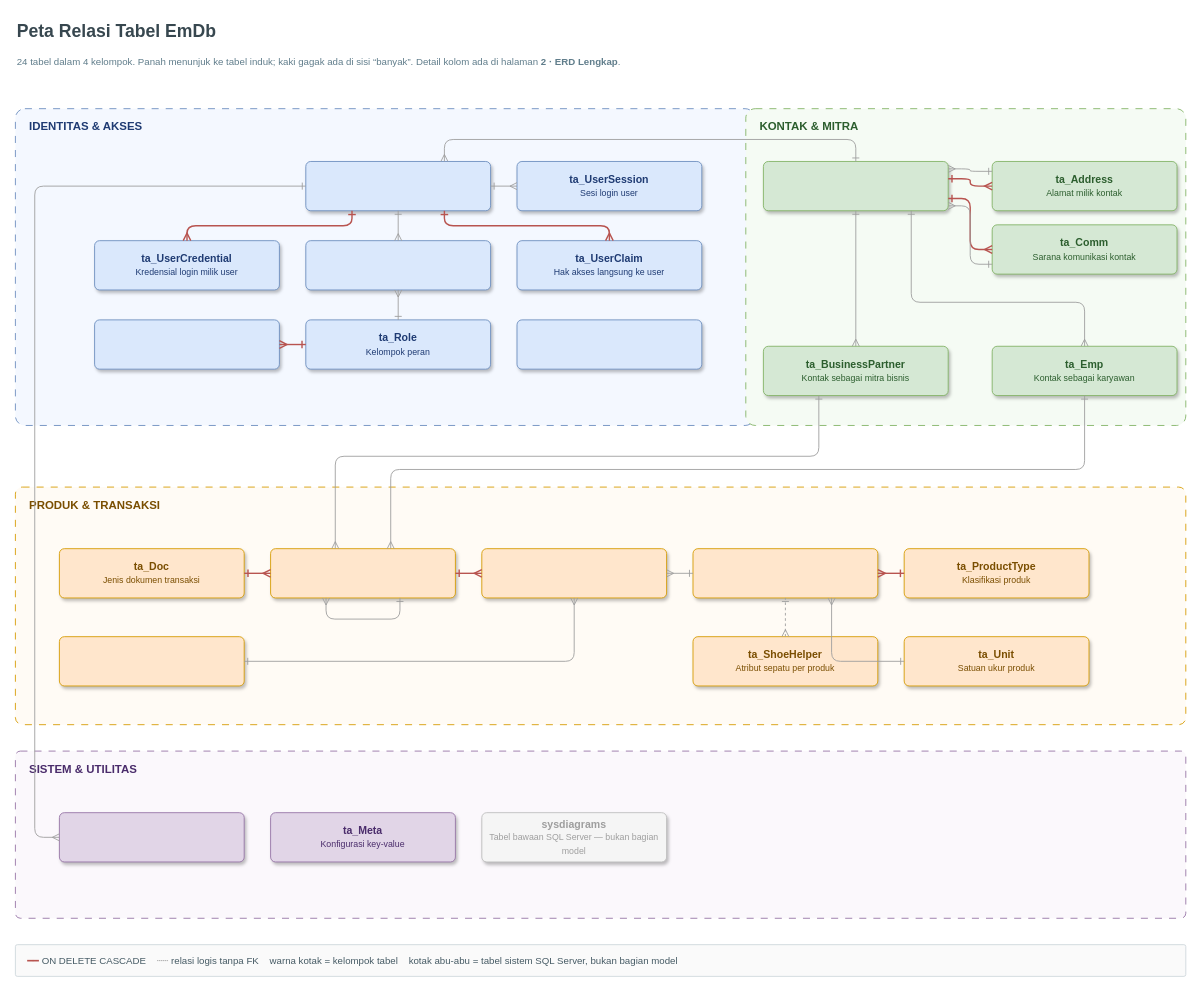
The diagram is 1201 pixels wide and 992 high, and some of its shapes have lost their labels. The shapes that lost their labels are listed below. From the top down, each one's centre as x and y in pixels, then its label:
At (398,187): "ta_User Akun pengguna aplikasi".
At (856,187): "ta_Contact Identitas orang / organisasi".
At (398,266): "ta_UserRole Penugasan user ke role (N : N)".
At (187,345): "ta_RoleClaim Hak akses milik role".
At (610,345): "ta_SystemSession Sesi akun sistem / debugger".
At (363,574): "ta_ProductTran Header transaksi produk".
At (574,574): "ta_ProductTranData Baris detail transaksi".
At (786,574): "ta_Product Master produk".
At (152,662): "ta_Currency Mata uang".
At (152,838): "ta_Log Jejak aktivitas aplikasi".
